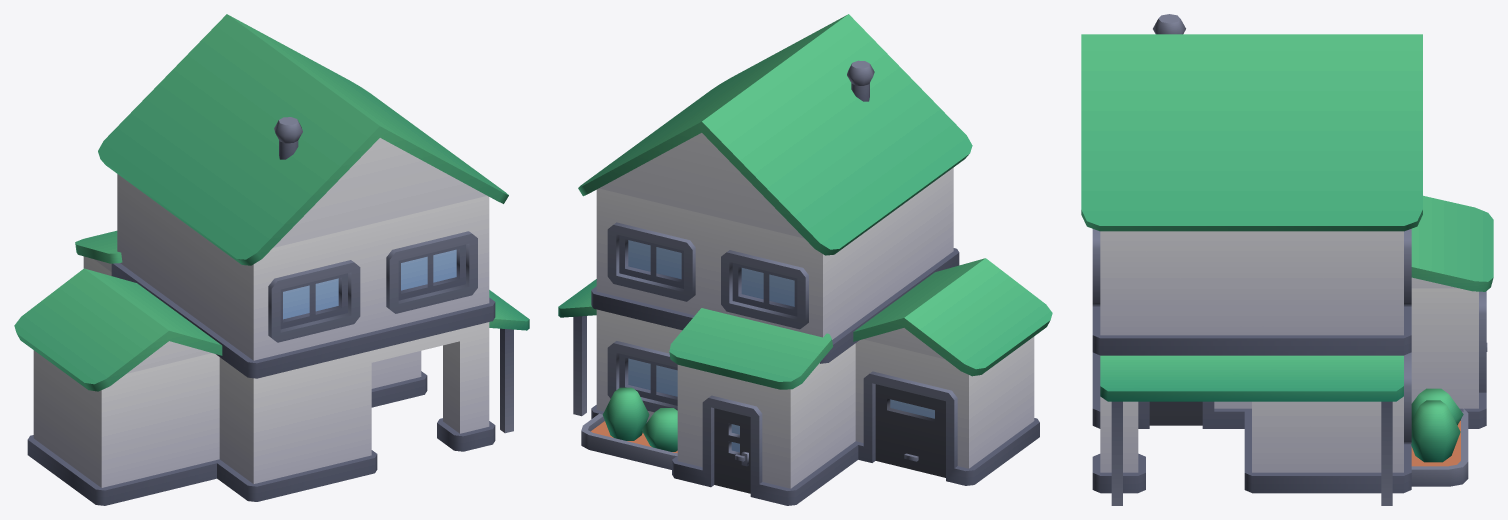
The model's file is house_suburb_s.glb.
3 renders of one model, left to right at view 1: azimuth 30°, elevation 25°; view 2: azimuth 150°, elevation 25°; view 3: azimuth 270°, elevation 25°, orthographic. The views are drawn at different scales.
Visible parts, largest first — view 1: building-type-s; view 2: building-type-s; view 3: building-type-s.
Part boxes in pixels (x1=…): building-type-s: x1=14, y1=14, x2=529, y2=505; building-type-s: x1=558, y1=14, x2=1052, y2=505; building-type-s: x1=1081, y1=14, x2=1493, y2=505.
Size of the model in its own units: 1.41 by 1.14 by 1.09.
Materials: 1 (1 with a texture image).
